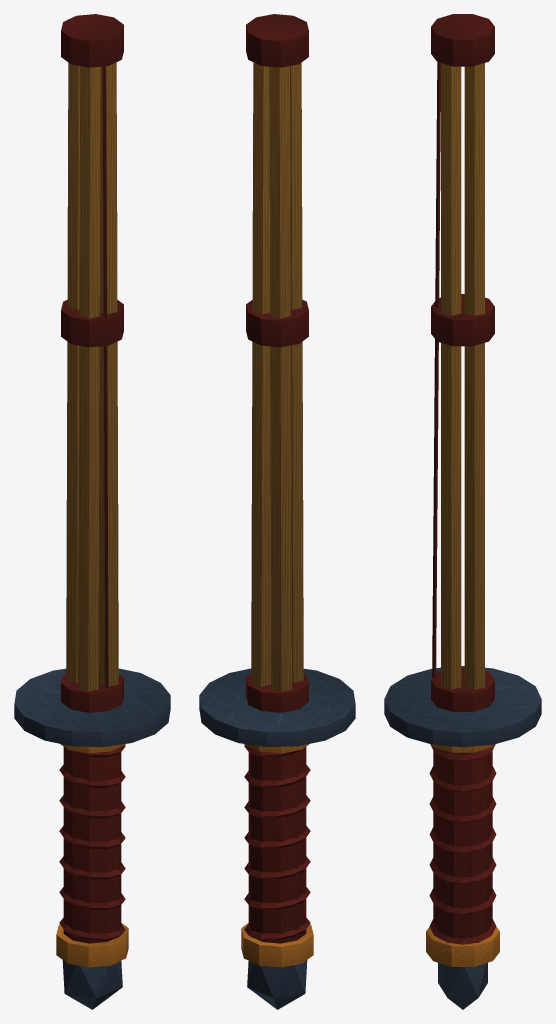
Rendered from shinai-t1.glb.
3 views of the same model, side by side, from view 1: azimuth 30°, elevation 25°; view 2: azimuth 150°, elevation 25°; view 3: azimuth 270°, elevation 25° (orthographic).
Visible parts, largest first — view 1: Bamboo stave, Bamboo stave.002, Leather grip, Shinai tsuba, Bamboo stave.001, Shinai binding.002, Shinai tension cord, Faceted pommel, Shinai binding.001, Grip ferrule, Shinai binding, Raised grip wrap.002 (+5 smaller); view 2: Bamboo stave.001, Bamboo stave.003, Leather grip, Shinai tsuba, Bamboo stave, Shinai binding.002, Shinai binding.001, Faceted pommel, Grip ferrule, Shinai binding, Raised grip wrap.002, Raised grip wrap.004 (+4 smaller); view 3: Bamboo stave.002, Bamboo stave.003, Leather grip, Shinai tsuba, Shinai binding.002, Shinai tension cord, Shinai binding.001, Grip ferrule, Shinai binding, Faceted pommel, Raised grip wrap.004, Raised grip wrap.002 (+5 smaller).
Part boxes in pixels (x1,y1,x2,y2): Bamboo stave: (78, 66, 100, 691); Bamboo stave.002: (98, 62, 118, 686); Leather grip: (63, 747, 121, 943); Shinai tsuba: (14, 668, 170, 747); Bamboo stave.001: (66, 62, 79, 682); Shinai binding.002: (61, 14, 123, 67); Shinai tension cord: (102, 66, 108, 688); Faceted pommel: (62, 960, 122, 1009); Shinai binding.001: (61, 299, 123, 347); Grip ferrule: (56, 923, 128, 967); Shinai binding: (61, 673, 123, 712); Raised grip wrap.002: (59, 856, 125, 879); Bamboo stave.001: (269, 66, 291, 691); Bamboo stave.003: (251, 62, 271, 686); Leather grip: (248, 747, 306, 943); Shinai tsuba: (199, 668, 355, 747); Bamboo stave: (290, 62, 303, 682); Shinai binding.002: (246, 14, 308, 67); Shinai binding.001: (246, 299, 308, 347); Faceted pommel: (247, 960, 307, 1009); Grip ferrule: (241, 923, 313, 967); Shinai binding: (246, 673, 308, 712); Raised grip wrap.002: (244, 856, 310, 879); Raised grip wrap.004: (244, 795, 310, 818); Bamboo stave.002: (441, 63, 461, 689); Bamboo stave.003: (464, 63, 484, 689); Leather grip: (433, 750, 492, 938); Shinai tsuba: (384, 666, 541, 747); Shinai binding.002: (431, 14, 494, 66); Shinai tension cord: (432, 62, 440, 677); Shinai binding.001: (431, 294, 494, 346); Grip ferrule: (426, 927, 499, 966); Shinai binding: (431, 667, 494, 711); Faceted pommel: (438, 962, 487, 1009); Raised grip wrap.004: (429, 797, 496, 822); Raised grip wrap.002: (429, 858, 496, 884).
Size of the model in its own units: 0.167 by 1.15 by 0.167.
1 material, 1 textured.
